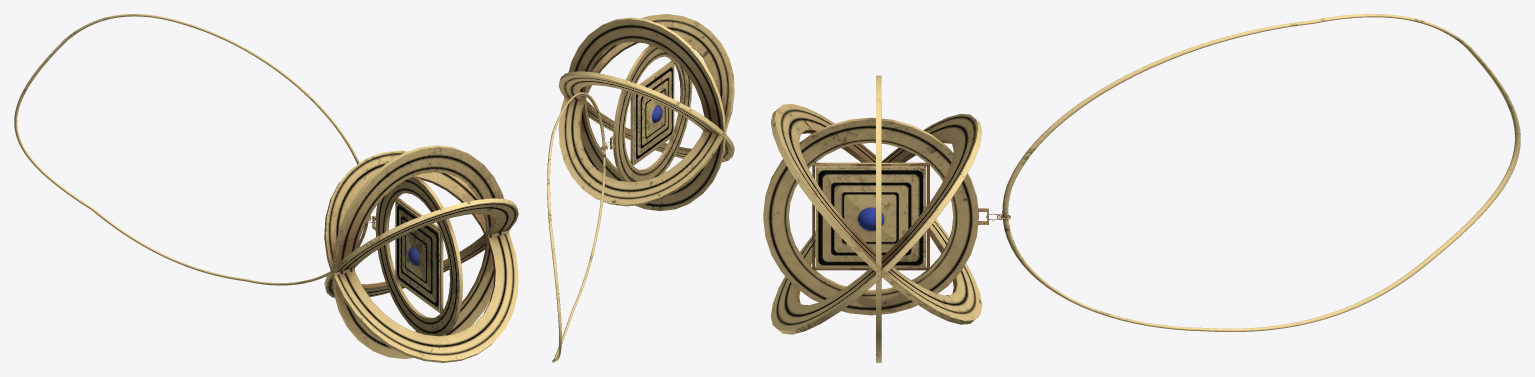
File: Holy.fbx
The picture shows the model from 3 angles, left to right: view 1: azimuth 30°, elevation 25°; view 2: azimuth 150°, elevation 25°; view 3: azimuth 270°, elevation 25°; orthographic projection. The views are drawn at different scales.
Visible parts, largest first — view 1: Amulet_circle2; view 2: Amulet_circle2; view 3: Amulet_circle2.
Boxes of the visible parts, x1,y1,x2,y2 form: Amulet_circle2: (14, 14, 518, 362); Amulet_circle2: (547, 14, 734, 362); Amulet_circle2: (763, 14, 1520, 362).
Bounding box in the file's own units: 46.09 × 43.37 × 96.93.
